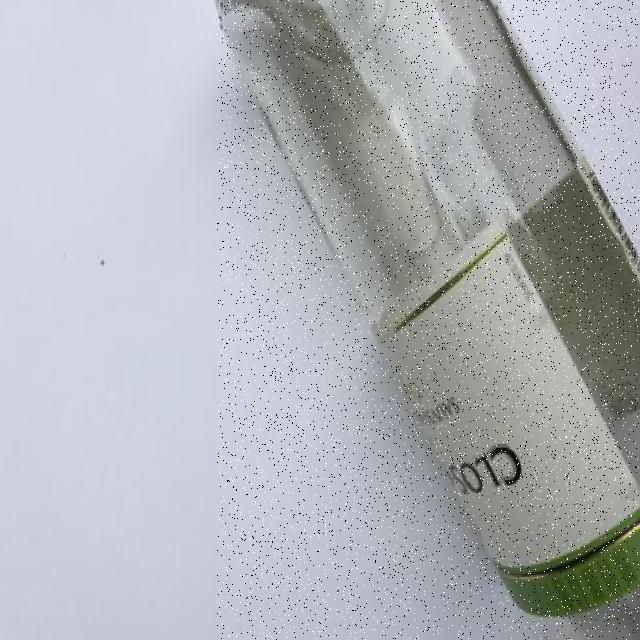glass: (217, 0, 640, 640)
